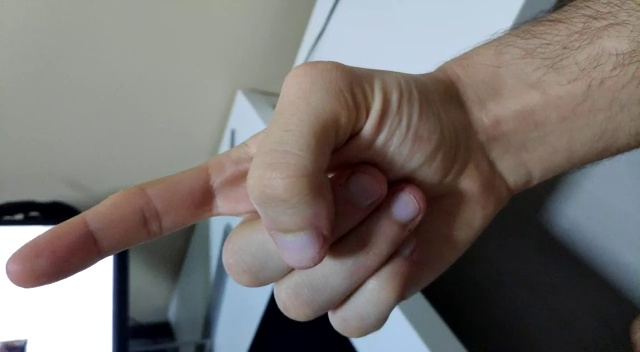One: (8, 11, 553, 343)
